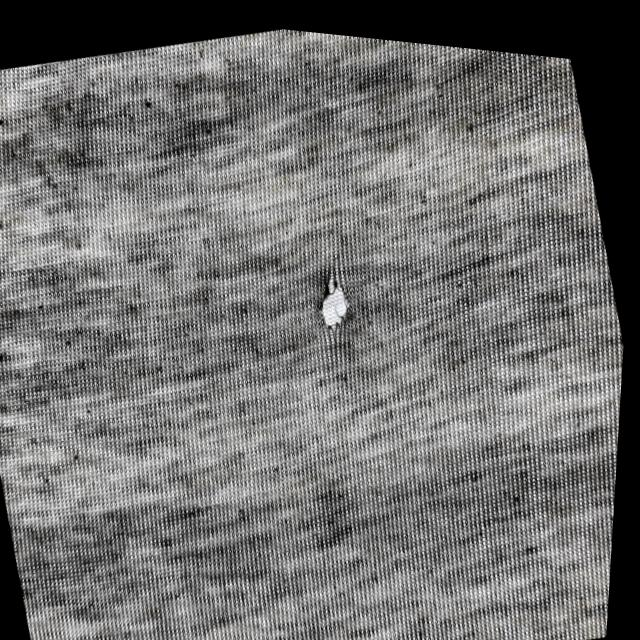Hole: (305, 247, 368, 341)
